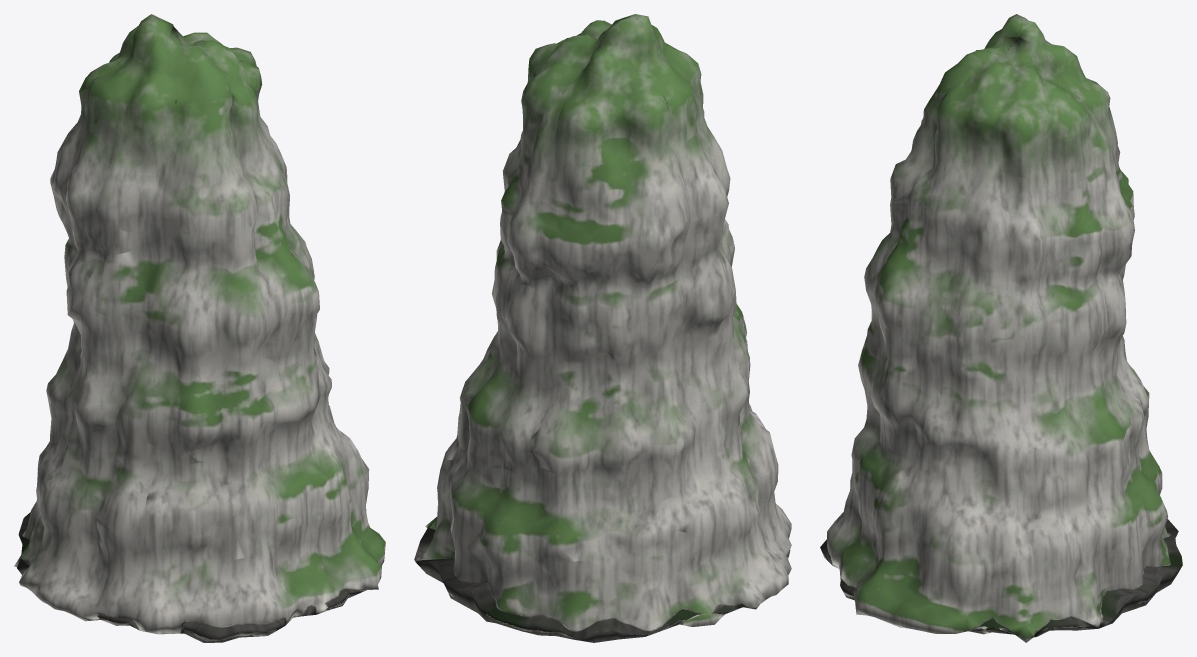
The model's file is tower1.glb.
3 renders of one model, left to right at view 1: azimuth 30°, elevation 25°; view 2: azimuth 150°, elevation 25°; view 3: azimuth 270°, elevation 25°, orthographic. The views are drawn at different scales.
Visible parts, largest first — view 1: karst_tower; view 2: karst_tower; view 3: karst_tower.
Boxes of the visible parts, left/top/right/bottom form: karst_tower: left=14, top=14, right=385, bottom=642; karst_tower: left=414, top=14, right=791, bottom=642; karst_tower: left=820, top=14, right=1182, bottom=642.
Bounding box in the file's own units: 1.26 × 2.02 × 1.24.
1 material, 1 textured.
